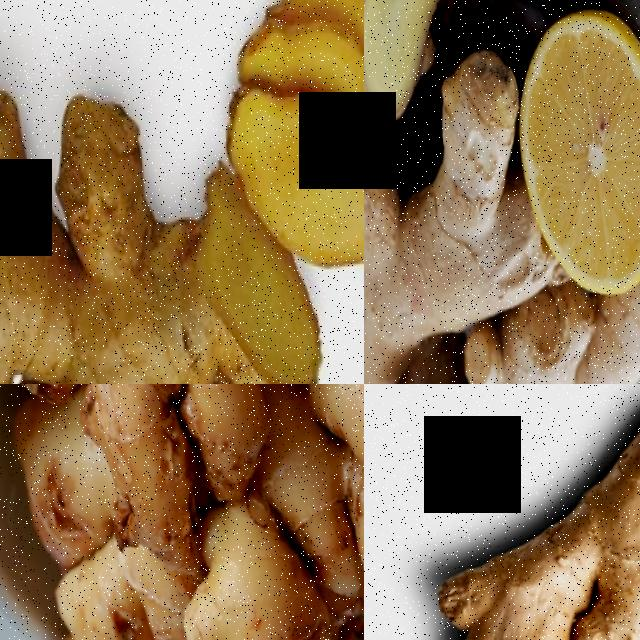ginger: (0, 79, 248, 384), (423, 384, 640, 640), (364, 71, 531, 343), (10, 500, 329, 640), (81, 384, 276, 563), (365, 294, 594, 384), (285, 384, 364, 617)
lemon: (519, 14, 640, 243)
